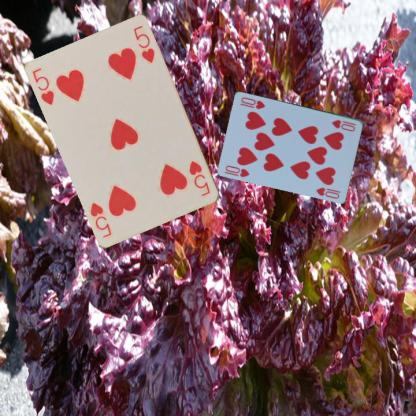10h: (223, 162, 251, 178), (329, 117, 358, 132)
5h: (30, 65, 56, 107), (187, 158, 212, 198)
